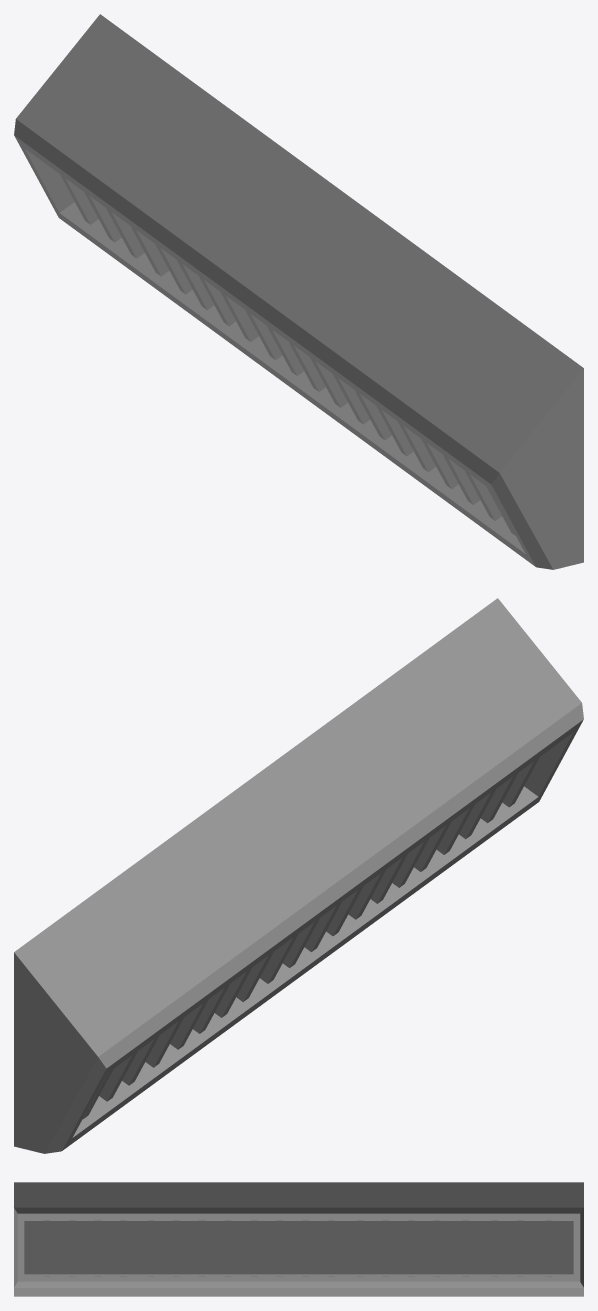
Rendered from vent_F.FBX.
The picture shows the model from 3 angles, top to bottom: view 1: azimuth 30°, elevation 25°; view 2: azimuth 150°, elevation 25°; view 3: azimuth 270°, elevation 25°; orthographic projection. The views are drawn at different scales.
Visible parts, largest first — view 1: vent_long_metal_002; view 2: vent_long_metal_002; view 3: vent_long_metal_002.
Part boxes in pixels (box(x1,y1,x2,y2)): vent_long_metal_002: box(14, 14, 583, 569); vent_long_metal_002: box(14, 598, 583, 1153); vent_long_metal_002: box(14, 1182, 583, 1296).
Size of the model in its own units: 15.05 by 31.29 by 141.
